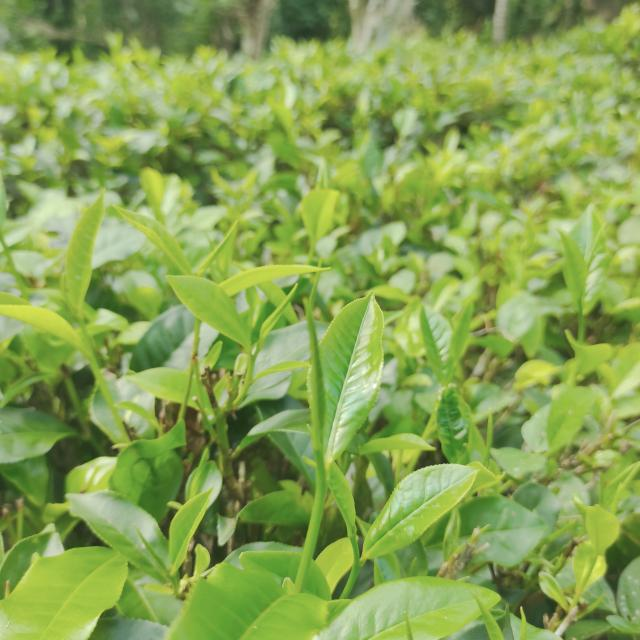unopened_leaf: (294, 291, 332, 466), (250, 278, 306, 356), (131, 519, 183, 587), (195, 211, 245, 281), (465, 583, 512, 640), (579, 214, 613, 274), (56, 265, 86, 325), (481, 401, 496, 466), (396, 601, 419, 639), (516, 604, 534, 640)
